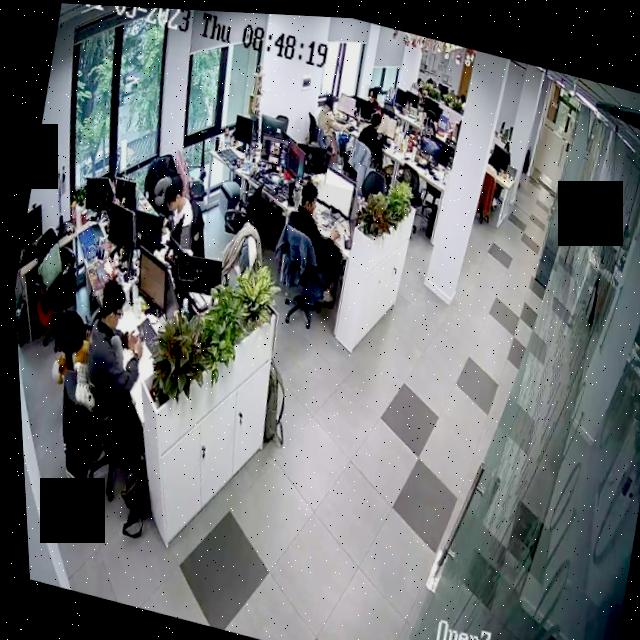person: (61, 272, 157, 436), (265, 171, 355, 307), (148, 168, 203, 252), (349, 101, 392, 167), (308, 88, 346, 153), (356, 79, 384, 125)
